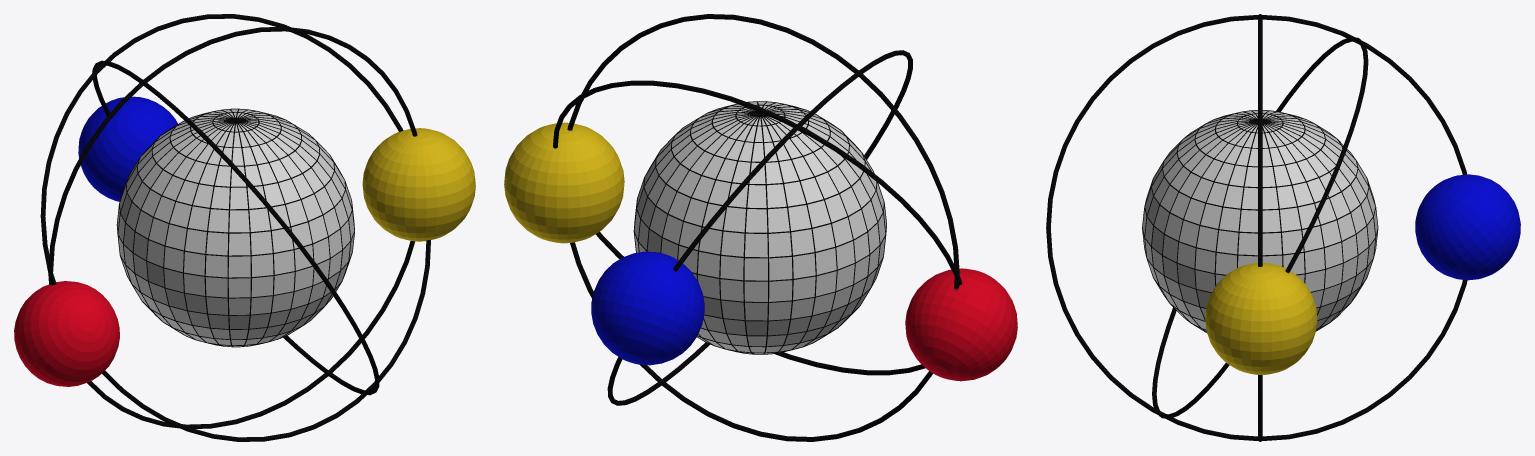
Rendered from mdanse_gui.obj.
3 views of the same model, side by side, from view 1: azimuth 30°, elevation 25°; view 2: azimuth 150°, elevation 25°; view 3: azimuth 270°, elevation 25° (orthographic). The views are drawn at different scales.
Parts seen in each view (by area): view 1: Sphere_Center_Material.001, Sphere_Center_Material.002, Sphere_Yellow_Material.005, Sphere_Red_Material.003, Sphere_Blue_Material.004, BézierCircle.001_BézierCircle.001, BézierCircle_BézierCircle, BézierCircle.002_BézierCircle.002; view 2: Sphere_Center_Material.001, Sphere_Yellow_Material.005, Sphere_Center_Material.002, Sphere_Blue_Material.004, Sphere_Red_Material.003, BézierCircle_BézierCircle, BézierCircle.001_BézierCircle.001, BézierCircle.002_BézierCircle.002; view 3: Sphere_Center_Material.001, Sphere_Yellow_Material.005, Sphere_Blue_Material.004, Sphere_Center_Material.002, BézierCircle.002_BézierCircle.002, BézierCircle.001_BézierCircle.001, BézierCircle_BézierCircle.
Part boxes in pixels (left/top/right/bottom): Sphere_Center_Material.001: left=117, top=109, right=354, bottom=346; Sphere_Center_Material.002: left=116, top=108, right=354, bottom=347; Sphere_Yellow_Material.005: left=362, top=128, right=475, bottom=241; Sphere_Red_Material.003: left=14, top=281, right=119, bottom=386; Sphere_Blue_Material.004: left=78, top=96, right=177, bottom=201; BézierCircle.001_BézierCircle.001: left=40, top=14, right=430, bottom=441; BézierCircle_BézierCircle: left=48, top=26, right=417, bottom=428; BézierCircle.002_BézierCircle.002: left=92, top=60, right=379, bottom=395; Sphere_Center_Material.001: left=634, top=102, right=886, bottom=353; Sphere_Yellow_Material.005: left=504, top=122, right=624, bottom=243; Sphere_Center_Material.002: left=633, top=101, right=886, bottom=354; Sphere_Blue_Material.004: left=591, top=251, right=704, bottom=365; Sphere_Red_Material.003: left=905, top=268, right=1017, bottom=381; BézierCircle_BézierCircle: left=567, top=14, right=959, bottom=441; BézierCircle.001_BézierCircle.001: left=553, top=80, right=962, bottom=375; BézierCircle.002_BézierCircle.002: left=607, top=50, right=912, bottom=405; Sphere_Center_Material.001: left=1142, top=110, right=1377, bottom=331; Sphere_Yellow_Material.005: left=1205, top=263, right=1317, bottom=374; Sphere_Blue_Material.004: left=1415, top=174, right=1520, bottom=280; Sphere_Center_Material.002: left=1142, top=110, right=1378, bottom=332; BézierCircle.002_BézierCircle.002: left=1046, top=15, right=1467, bottom=441; BézierCircle.001_BézierCircle.001: left=1152, top=37, right=1368, bottom=418; BézierCircle_BézierCircle: left=1258, top=14, right=1262, bottom=441.
Size of the model in its own units: 4.45 by 3.64 by 4.04.
